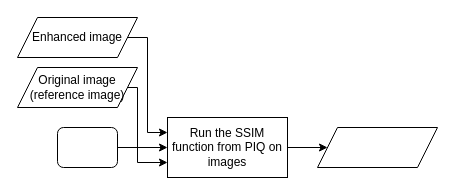
Some shapes in this 455 by 195 pixel diagram are drawn without their labels. The shapes that lost their labels are listed below. From the top down, each one's box as (x1, y1, x2, y2) in pixels, then its label:
(56, 126, 118, 168): Start
(316, 126, 438, 168): Print outputs
